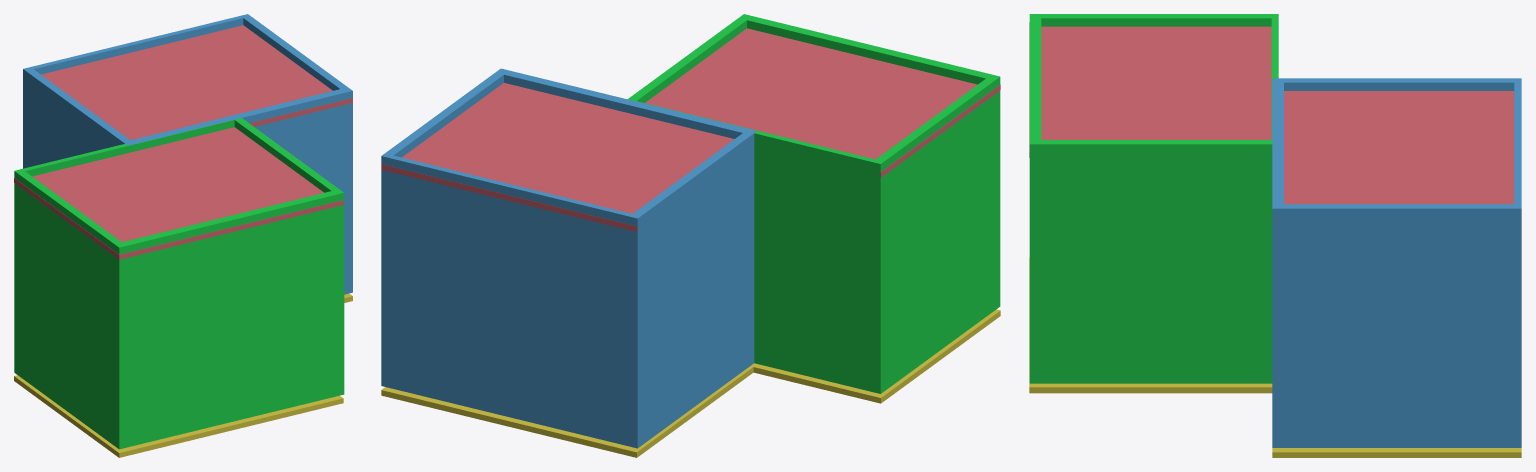
Rendered from prototype rumah.fbx.
The picture shows the model from 3 angles, left to right: view 1: azimuth 30°, elevation 25°; view 2: azimuth 150°, elevation 25°; view 3: azimuth 270°, elevation 25°; orthographic projection. The views are drawn at different scales.
Parts seen in each view (by area): view 1: Cube.001, Plane.002, Cube, Plane; view 2: Cube, Cube.001, Plane.002, Plane; view 3: Cube, Cube.001, Plane.002, Plane.
Boxes of the visible parts, left/top/right/bottom form: Cube.001: left=14, top=118, right=344, bottom=449; Plane.002: left=14, top=25, right=352, bottom=259; Cube: left=23, top=14, right=352, bottom=294; Plane: left=14, top=293, right=352, bottom=457; Cube: left=381, top=68, right=756, bottom=448; Cube.001: left=628, top=14, right=1000, bottom=393; Plane.002: left=381, top=28, right=1000, bottom=231; Plane: left=381, top=309, right=1000, bottom=457; Cube: left=1272, top=78, right=1521, bottom=447; Cube.001: left=1029, top=14, right=1278, bottom=383; Plane.002: left=1029, top=22, right=1514, bottom=204; Plane: left=1029, top=258, right=1521, bottom=457.
Bounding box in the file's own units: 1501 × 896 × 1604.
